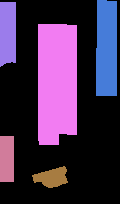parkingspot: (38, 24, 58, 144), (56, 24, 76, 134), (96, 0, 116, 95), (0, 2, 15, 66), (32, 166, 67, 187), (0, 136, 13, 181)
